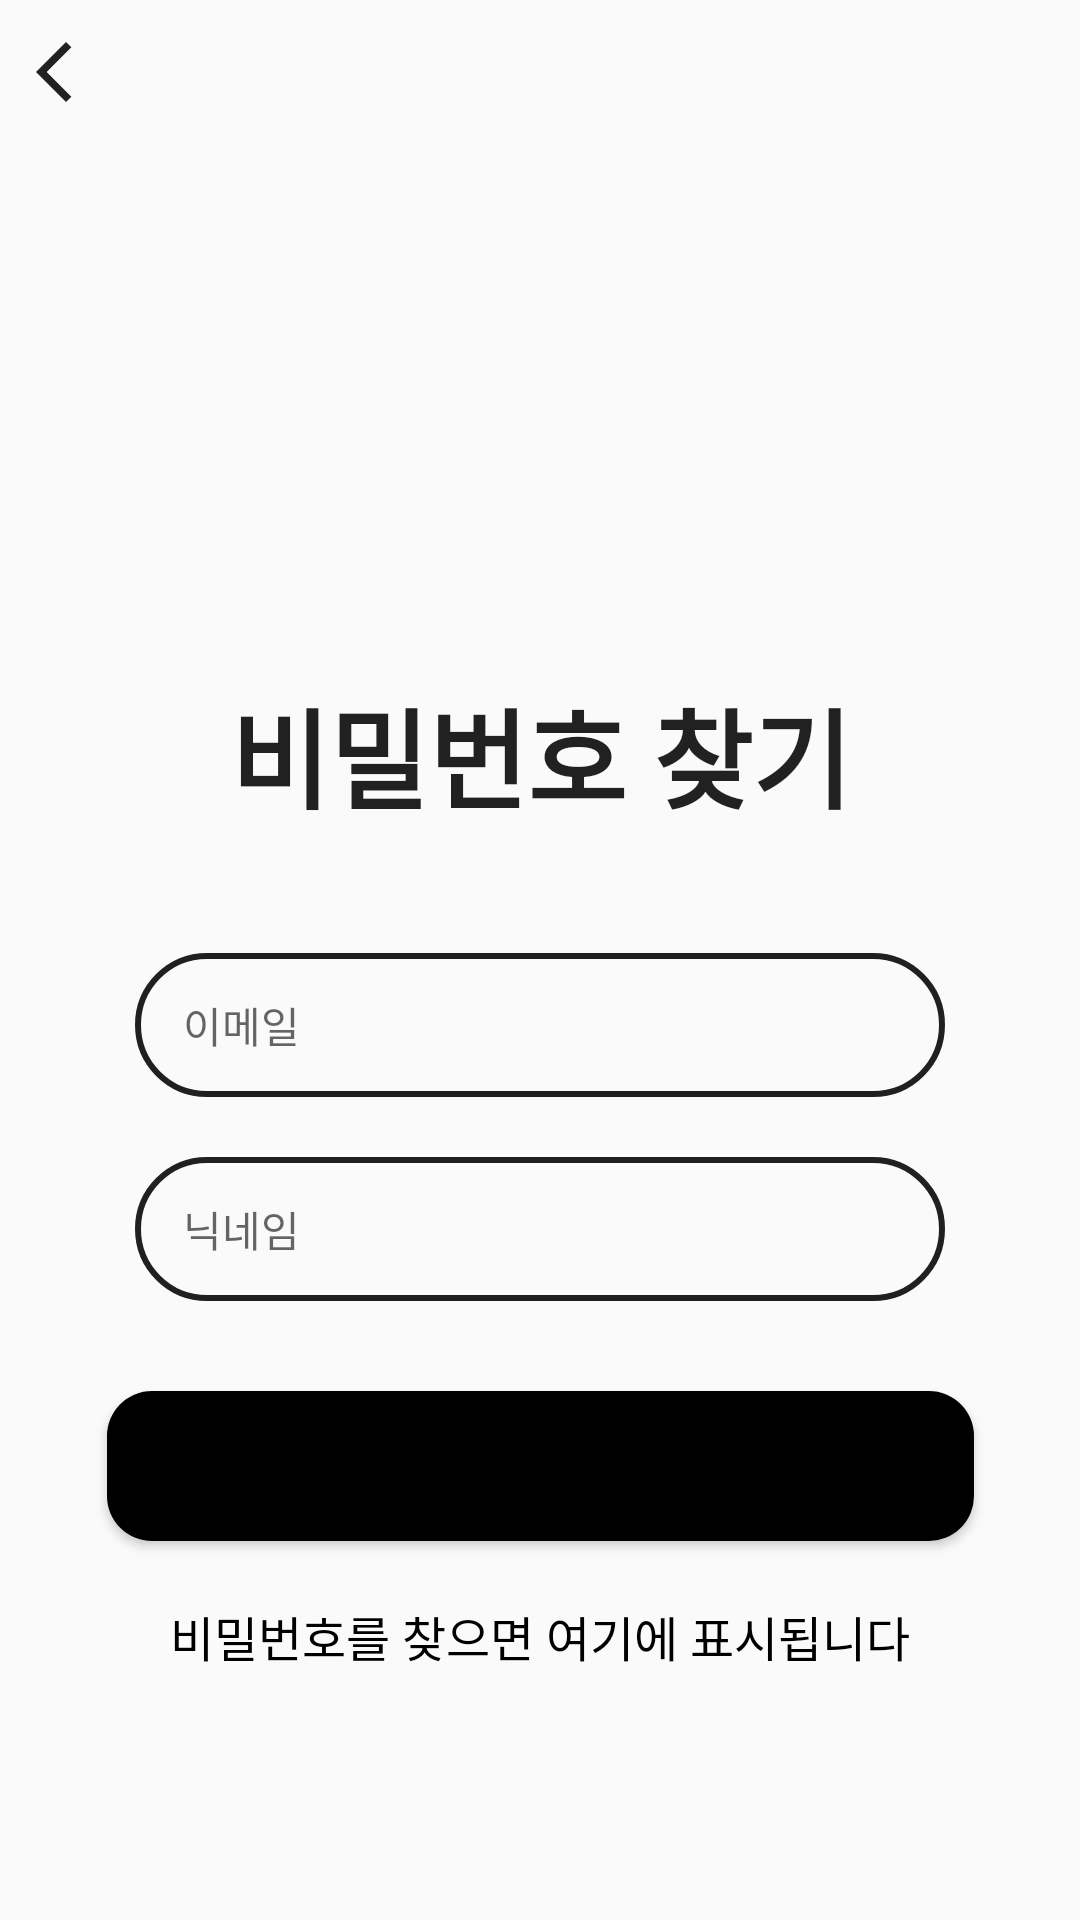

Point at icon controls on the screen. Image size 1080x1920, points as [x,y].
뒤로가기: [53,72]
